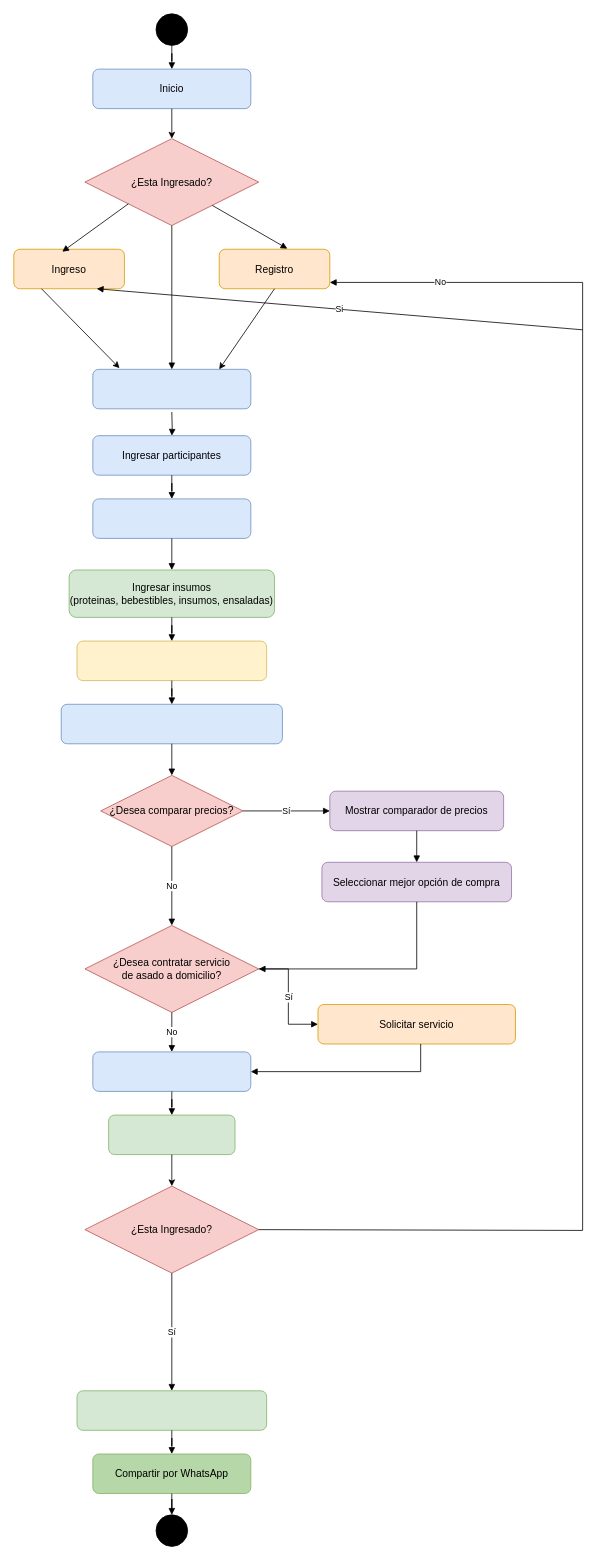
Some shapes in this 603 by 1560 pixel diagram are drawn without their labels. Each missing label, with the centre of its shape:
"Confirmar planificación" belongs at point 171,1071.
"Crear evento de asado" belongs at point 171,389.
"Definir perfil de consumo" belongs at point 171,518.
"Dividir gastos" belongs at point 171,1134.
"Ejecutar IA de recomendación" belongs at point 171,660.
"Generar resumen del evento" belongs at point 171,1410.
"Mostrar planificación y recomendaciones" belongs at point 171,723.
